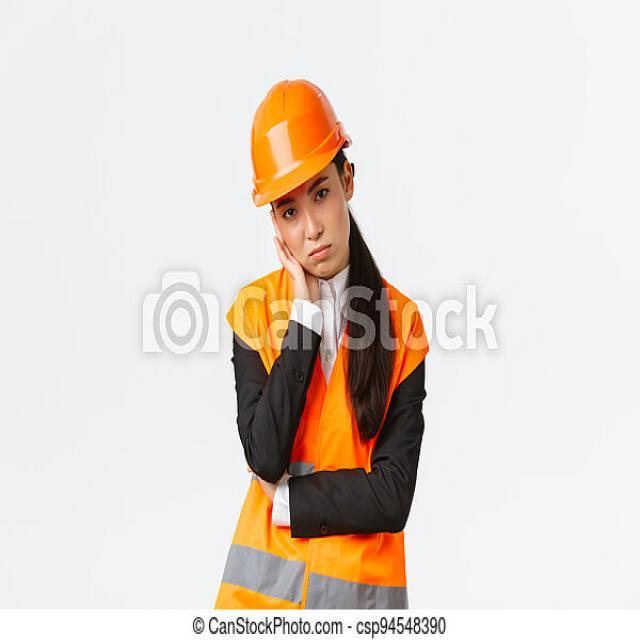reflective_jacket: (211, 266, 424, 606)
safety_helmet: (245, 73, 354, 205)
